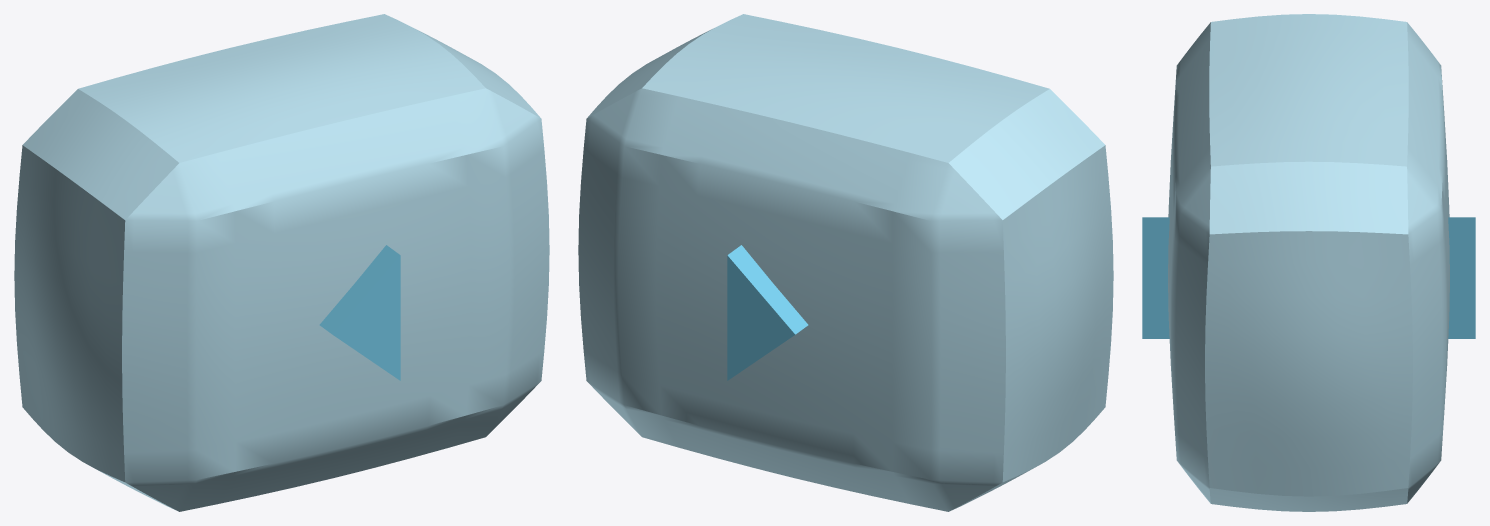
Rendered from play_button_animation_frame6.fbx.
The picture shows the model from 3 angles, left to right: view 1: azimuth 30°, elevation 25°; view 2: azimuth 150°, elevation 25°; view 3: azimuth 270°, elevation 25°; orthographic projection. The views are drawn at different scales.
Visible parts, largest first — view 1: Button, Triangle; view 2: Button, Triangle; view 3: Button, Triangle.
Boxes of the visible parts, box(x1,y1,x2,y2) form: Button: box(14, 14, 549, 511); Triangle: box(319, 245, 400, 380); Button: box(578, 14, 1113, 511); Triangle: box(727, 245, 808, 380); Button: box(1168, 14, 1449, 511); Triangle: box(1142, 217, 1475, 338).
Size of the model in its own units: 373 by 293 by 245.
